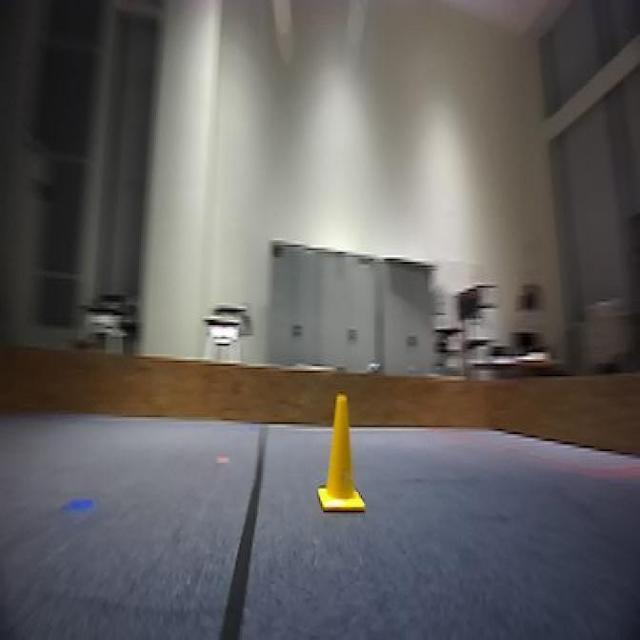frc_cone: (318, 393, 366, 509)
